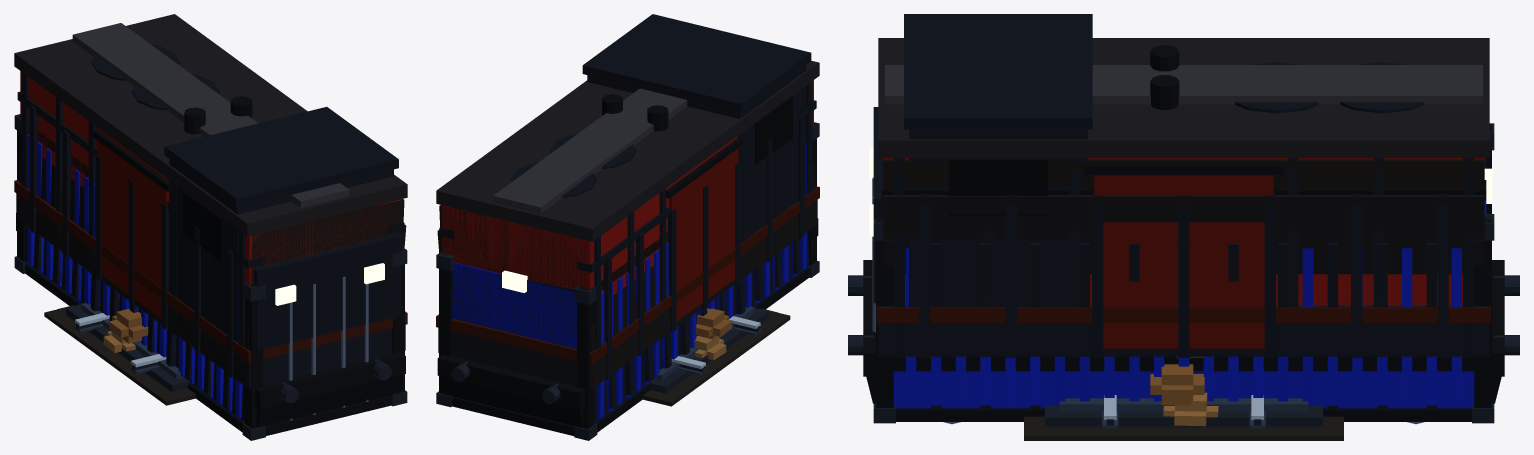
The model's file is tactical.glb.
3 renders of one model, left to right at view 1: azimuth 30°, elevation 25°; view 2: azimuth 150°, elevation 25°; view 3: azimuth 270°, elevation 25°, orthographic. The views are drawn at different scales.
Parts seen in each view (by area): view 1: LOCOMOTIVE_DAMAGED, RAIL_CAR_CLOSED_0, CONTAINER_BLUE, RAIL_CAR_CLOSED_DAMAGED, RAIL_CAR_OPEN_0, CONTAINER_DAMAGED, RAIL_JUNCTION, TRANSFORMER_DAMAGED, SANDBAGS_STRAIGHT, RAIL_STRAIGHT; view 2: RAIL_CAR_CLOSED_0, LOCOMOTIVE_DAMAGED, CONTAINER_BLUE, RAIL_CAR_CLOSED_DAMAGED, CONTAINER_DAMAGED, RAIL_CAR_OPEN_0, RAIL_JUNCTION, TRANSFORMER_DAMAGED, SANDBAGS_STRAIGHT, RAIL_STRAIGHT; view 3: RAIL_CAR_CLOSED_0, LOCOMOTIVE_DAMAGED, CONTAINER_BLUE, RAIL_CAR_OPEN_DAMAGED, RAIL_CAR_OPEN_0, RAIL_CAR_CLOSED_DAMAGED, CONTAINER_DAMAGED, TRANSFORMER_DAMAGED, RAIL_JUNCTION, SANDBAGS_STRAIGHT, RAIL_STRAIGHT.
Boxes of the visible parts, bbox=[...] form: LOCOMOTIVE_DAMAGED: bbox=[14, 44, 407, 427]; RAIL_CAR_CLOSED_0: bbox=[14, 14, 407, 407]; CONTAINER_BLUE: bbox=[14, 114, 407, 440]; RAIL_CAR_CLOSED_DAMAGED: bbox=[17, 155, 404, 384]; RAIL_CAR_OPEN_0: bbox=[17, 91, 404, 377]; CONTAINER_DAMAGED: bbox=[25, 226, 244, 421]; RAIL_JUNCTION: bbox=[44, 309, 195, 405]; TRANSFORMER_DAMAGED: bbox=[66, 303, 190, 392]; SANDBAGS_STRAIGHT: bbox=[103, 308, 148, 352]; RAIL_STRAIGHT: bbox=[57, 305, 195, 402]; RAIL_CAR_CLOSED_0: bbox=[436, 60, 819, 400]; LOCOMOTIVE_DAMAGED: bbox=[436, 14, 819, 427]; CONTAINER_BLUE: bbox=[436, 122, 819, 440]; RAIL_CAR_CLOSED_DAMAGED: bbox=[439, 163, 816, 385]; CONTAINER_DAMAGED: bbox=[452, 231, 809, 421]; RAIL_CAR_OPEN_0: bbox=[439, 100, 816, 379]; RAIL_JUNCTION: bbox=[642, 312, 790, 406]; TRANSFORMER_DAMAGED: bbox=[648, 306, 769, 393]; SANDBAGS_STRAIGHT: bbox=[694, 308, 731, 360]; RAIL_STRAIGHT: bbox=[643, 308, 777, 403]; RAIL_CAR_CLOSED_0: bbox=[851, 38, 1516, 376]; LOCOMOTIVE_DAMAGED: bbox=[848, 14, 1519, 424]; CONTAINER_BLUE: bbox=[872, 123, 1494, 423]; RAIL_CAR_OPEN_DAMAGED: bbox=[881, 180, 1486, 274]; RAIL_CAR_OPEN_0: bbox=[881, 185, 1486, 357]; RAIL_CAR_CLOSED_DAMAGED: bbox=[883, 159, 1484, 189]; CONTAINER_DAMAGED: bbox=[931, 158, 1486, 408]; TRANSFORMER_DAMAGED: bbox=[1045, 398, 1322, 426]; RAIL_JUNCTION: bbox=[1024, 395, 1343, 440]; SANDBAGS_STRAIGHT: bbox=[1150, 356, 1218, 426]; RAIL_STRAIGHT: bbox=[1024, 416, 1343, 427].
Size of the model in its own units: 2 by 2.24 by 4.2.
